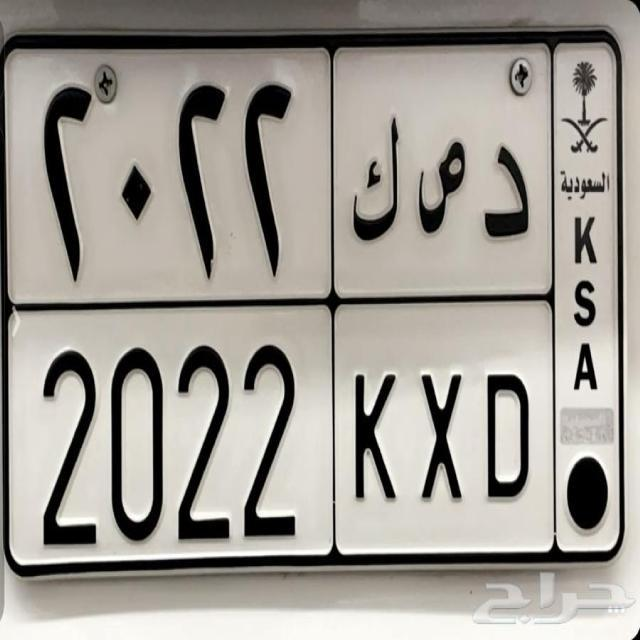license_plate: (2, 34, 625, 564), (3, 296, 558, 566)
